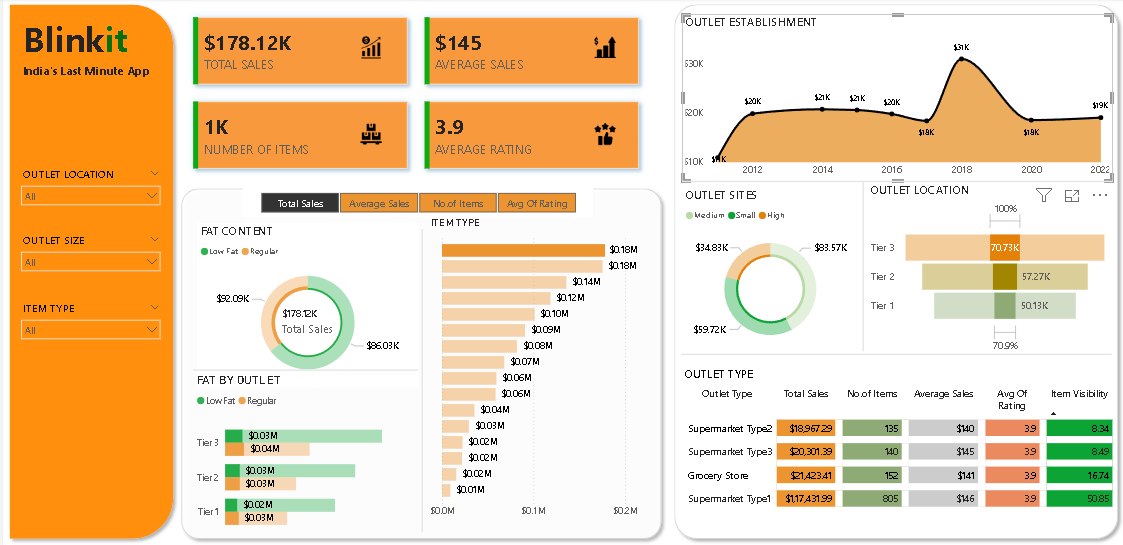

What the dashboard file says about the page in this screenshot:
{"tool":"powerbi","page":{"name":"Page 1","canvas":[1570,770],"ordinal":0},"visuals":[{"type":"shape","box":[0,0,247.5,766.1],"z":0},{"type":"textbox","box":[22,18.6,232.2,132.2],"z":1000},{"type":"textbox","box":[22,84.7,244.1,33.9],"z":2000},{"type":"cardVisual","fields":{"Data":["BlinkIT Grocery Data.Total Sales","BlinkIT Grocery Data.Average Sales","BlinkIT Grocery Data.No.of Items","BlinkIT Grocery Data.Avg Of Rating"]},"box":[249.2,10.2,659.3,247.5],"z":3000},{"type":"image","box":[498.3,52.5,33.9,32.2],"z":4000},{"type":"image","box":[825.4,174.6,33.9,30.5],"z":5000},{"type":"image","box":[498.3,174.6,33.9,30.5],"z":6000},{"type":"image","box":[825.4,52.5,33.9,32.2],"z":7000},{"type":"shape","box":[240.7,257.6,689.8,508.5],"z":8000},{"type":"donutChart","title":"FAT CONTENT","fields":{"Y":["BlinkIT Grocery Data.Total Sales"],"Category":["BlinkIT Grocery Data.Item Fat Content"]},"box":[271.2,315.3,310.2,230.5],"z":9000},{"type":"slicer","fields":{"Values":["Matrics.Matrics"]},"box":[335.6,266.1,489.8,40.7],"z":10000},{"type":"cardVisual","fields":{"Data":["BlinkIT Grocery Data.Total Sales"]},"box":[370,418.6,123.7,67.8],"z":11000},{"type":"clusteredBarChart","title":"FAT BY OUTLET","fields":{"Y":["BlinkIT Grocery Data.Total Sales"],"Category":["BlinkIT Grocery Data.Outlet Location Type"],"Series":["BlinkIT Grocery Data.Item Fat Content"]},"box":[266.1,525.4,320.3,239],"z":12000},{"type":"shape","box":[266.1,511.9,315.3,16.9],"z":13000},{"type":"shape","box":[581.4,323.7,11.9,423.7],"z":14000},{"type":"barChart","title":"ITEM TYPE","fields":{"Y":["BlinkIT Grocery Data.Total Sales"],"Category":["BlinkIT Grocery Data.Item Type"]},"box":[593.2,306.8,315.3,428.8],"z":15000},{"type":"shape","box":[930.5,0,639,766.1],"z":16000},{"type":"lineChart","title":"OUTLET ESTABLISHMENT","fields":{"Y":["BlinkIT Grocery Data.Total Sales"],"Category":["BlinkIT Grocery Data.Outlet Establishment Year"]},"box":[950.8,22,603.4,235.6],"z":17000},{"type":"shape","box":[950.8,249.2,603.4,15.3],"z":18000},{"type":"donutChart","title":"OUTLET SITES","fields":{"Y":["BlinkIT Grocery Data.Total Sales"],"Category":["BlinkIT Grocery Data.Outlet Size"]},"box":[950.8,264.4,247.5,237.3],"z":19000},{"type":"shape","box":[1198.3,257.6,11.9,237.3],"z":20000},{"type":"funnel","title":"OUTLET LOCATION","fields":{"Y":["Sum(BlinkIT Grocery Data.Sales)"],"Category":["BlinkIT Grocery Data.Outlet Location Type"]},"box":[1210.2,257.6,342.4,244.1],"z":21000},{"type":"pivotTable","title":"OUTLET TYPE","fields":{"Rows":["BlinkIT Grocery Data.Outlet Type"],"Values":["BlinkIT Grocery Data.Total Sales","BlinkIT Grocery Data.No.of Items","BlinkIT Grocery Data.Average Sales","BlinkIT Grocery Data.Avg Of Rating","Sum(BlinkIT Grocery Data.Item Visibility)"]},"box":[949.2,515.3,620.3,228.8],"z":22000},{"type":"shape","box":[949.2,494.9,603.4,6.8],"z":23000},{"type":"slicer","fields":{"Values":["BlinkIT Grocery Data.Outlet Location Type"]},"box":[15.3,230.5,215.3,67.8],"z":24000},{"type":"slicer","fields":{"Values":["BlinkIT Grocery Data.Outlet Size"]},"box":[15.3,323.7,215.3,66.1],"z":25000},{"type":"slicer","fields":{"Values":["BlinkIT Grocery Data.Item Type"]},"box":[15.3,418.6,215.3,67.8],"z":26000}]}

Visuals, with their boxes in screenshot pixels (x1, y1, x2, y2), scaled from the page's 1570x770 canvas onto the 1123x545 screenshot:
shape: x1=0 y1=0 x2=177 y2=542
textbox: x1=16 y1=13 x2=182 y2=107
textbox: x1=16 y1=60 x2=190 y2=84
cardVisual - BlinkIT Grocery Data.Total Sales x BlinkIT Grocery Data.Average Sales: x1=178 y1=7 x2=650 y2=182
image: x1=356 y1=37 x2=381 y2=60
image: x1=590 y1=124 x2=615 y2=145
image: x1=356 y1=124 x2=381 y2=145
image: x1=590 y1=37 x2=615 y2=60
shape: x1=172 y1=182 x2=666 y2=542
"FAT CONTENT" donutChart: x1=194 y1=223 x2=416 y2=386
slicer - Matrics.Matrics: x1=240 y1=188 x2=590 y2=217
cardVisual - BlinkIT Grocery Data.Total Sales: x1=265 y1=296 x2=353 y2=344
"FAT BY OUTLET" clusteredBarChart: x1=190 y1=372 x2=419 y2=541
shape: x1=190 y1=362 x2=416 y2=374
shape: x1=416 y1=229 x2=424 y2=529
"ITEM TYPE" barChart: x1=424 y1=217 x2=650 y2=521
shape: x1=666 y1=0 x2=1122 y2=542
"OUTLET ESTABLISHMENT" lineChart: x1=680 y1=16 x2=1112 y2=182
shape: x1=680 y1=176 x2=1112 y2=187
"OUTLET SITES" donutChart: x1=680 y1=187 x2=857 y2=355
shape: x1=857 y1=182 x2=866 y2=350
"OUTLET LOCATION" funnel: x1=866 y1=182 x2=1111 y2=355
"OUTLET TYPE" pivotTable: x1=679 y1=365 x2=1122 y2=527
shape: x1=679 y1=350 x2=1111 y2=355
slicer - BlinkIT Grocery Data.Outlet Location Type: x1=11 y1=163 x2=165 y2=211
slicer - BlinkIT Grocery Data.Outlet Size: x1=11 y1=229 x2=165 y2=276
slicer - BlinkIT Grocery Data.Item Type: x1=11 y1=296 x2=165 y2=344
